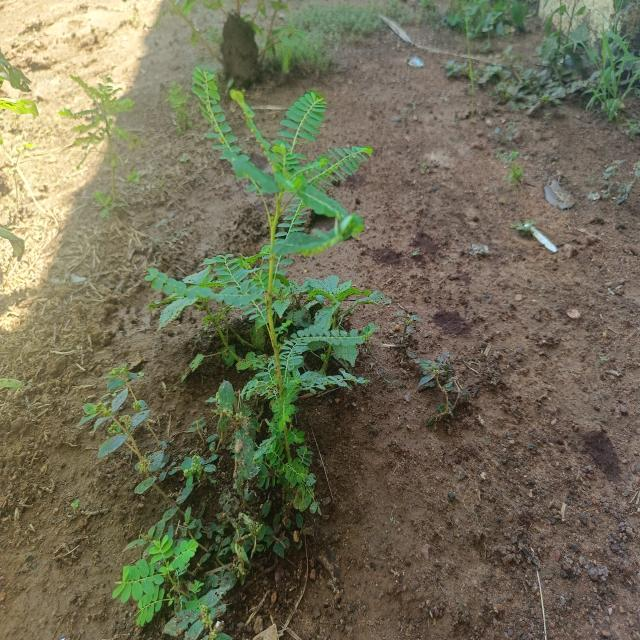weed: (84, 61, 380, 640)
